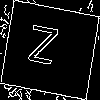Z: (25, 25, 59, 75)
